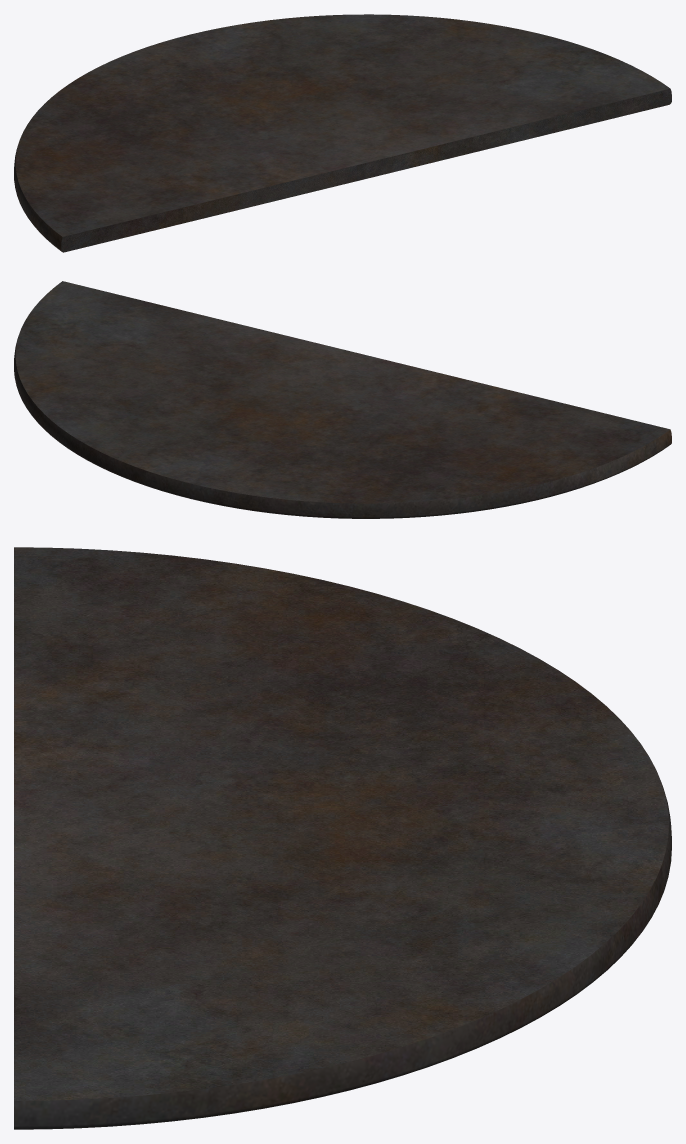
File: SM_FLOOR.gltf
The picture shows the model from 3 angles, top to bottom: view 1: azimuth 30°, elevation 25°; view 2: azimuth 150°, elevation 25°; view 3: azimuth 270°, elevation 25°; orthographic projection. The views are drawn at different scales.
Parts seen in each view (by area): view 1: SM_FLOOR; view 2: SM_FLOOR; view 3: SM_FLOOR.
Boxes of the visible parts, x1,y1,x2,y2 form: SM_FLOOR: [14, 14, 671, 252]; SM_FLOOR: [14, 281, 671, 518]; SM_FLOOR: [14, 547, 671, 1129].
Bounding box in the file's own units: 2 × 0.0502 × 1.
